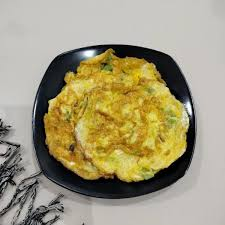Telur dadar: (44, 48, 190, 182)
